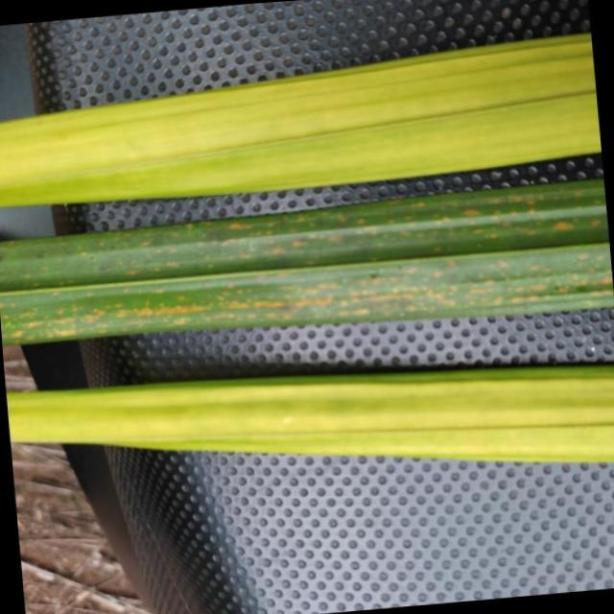nitrogen: (5, 30, 614, 203), (0, 182, 614, 349), (5, 363, 614, 459)
